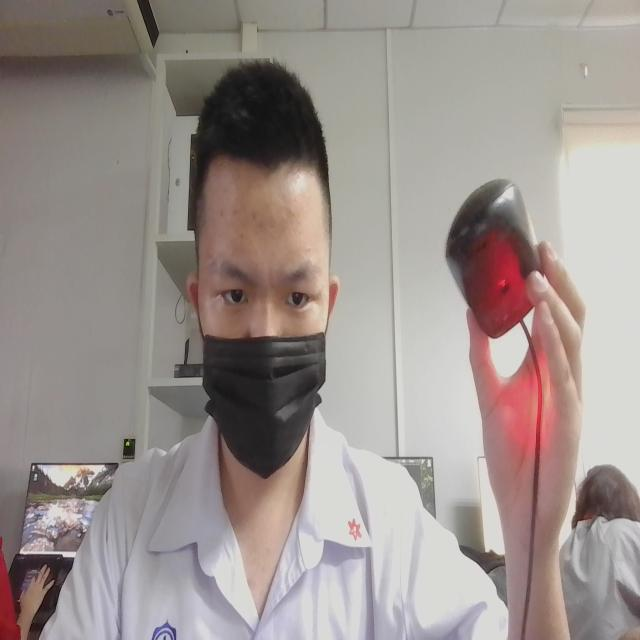mouse: (419, 152, 555, 366)
